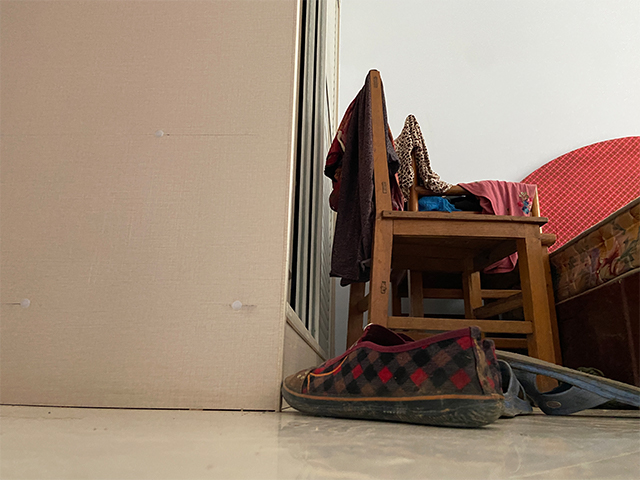bed: (524, 136, 640, 387)
slippers: (495, 349, 640, 420)
stool: (343, 68, 560, 392)
